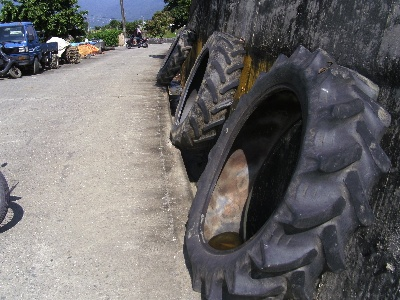tire: (183, 45, 391, 300), (170, 27, 247, 153), (157, 29, 196, 88)
